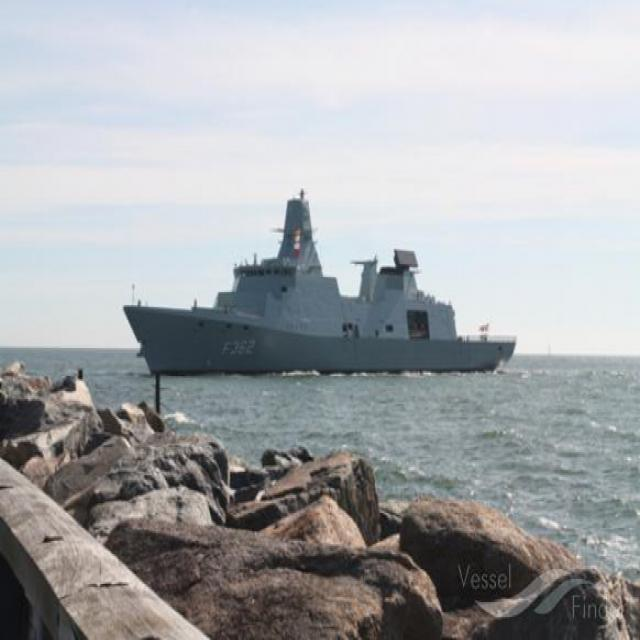OCR: (217, 337, 260, 366)
